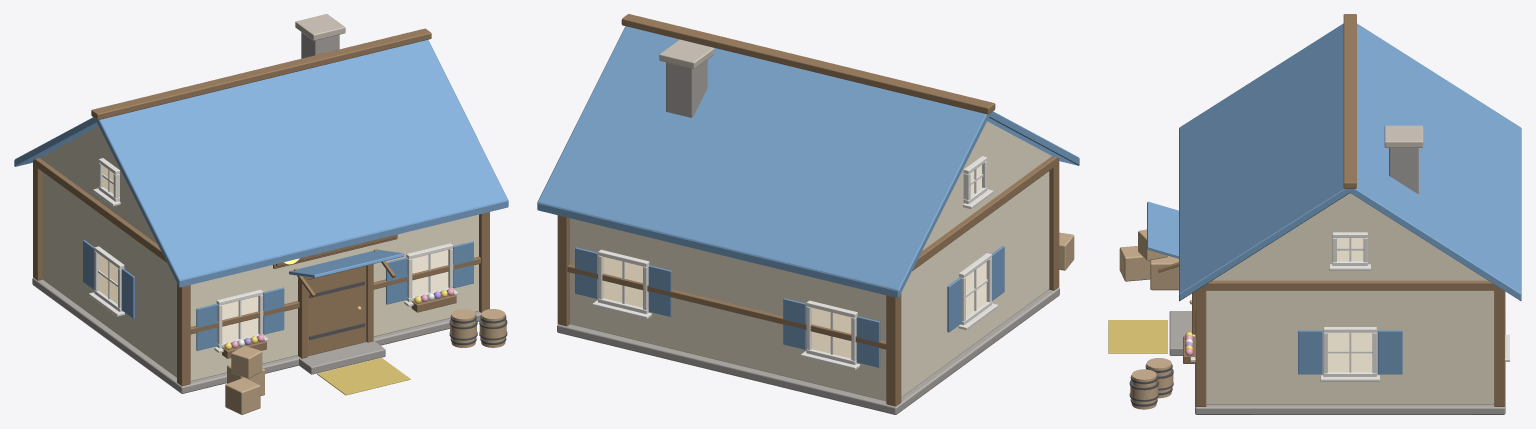
The model's file is general_store.fbx.
3 renders of one model, left to right at view 1: azimuth 30°, elevation 25°; view 2: azimuth 150°, elevation 25°; view 3: azimuth 270°, elevation 25°, orthographic. The views are drawn at different scales.
Visible parts, largest first — view 1: general_store; view 2: general_store; view 3: general_store.
Part boxes in pixels (box(x1,y1,x2,y2)): general_store: box(14, 14, 508, 414); general_store: box(537, 14, 1079, 414); general_store: box(1108, 14, 1521, 414).
Bounding box in the file's own units: 13.4 × 9.13 × 13.84.
